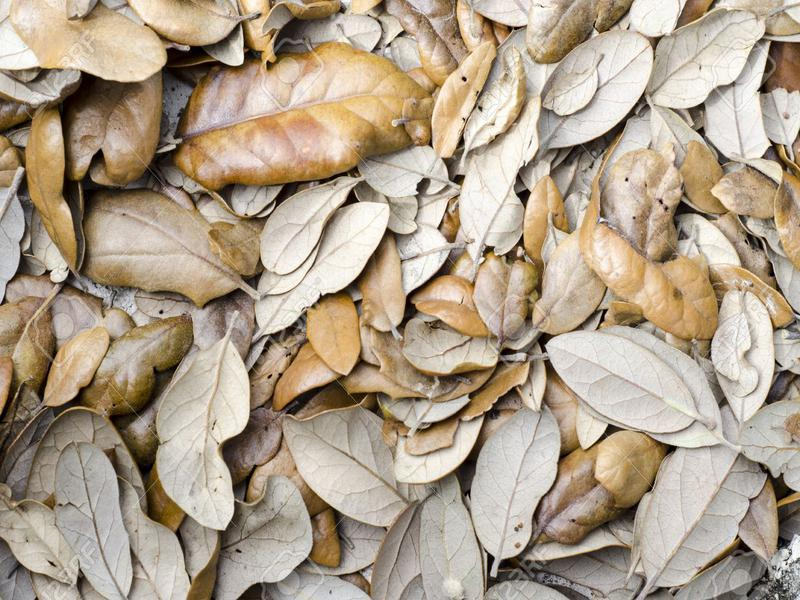leaf: (159, 45, 436, 194), (150, 307, 255, 536), (537, 322, 718, 453), (633, 438, 769, 600), (83, 187, 262, 307), (275, 403, 424, 526), (532, 28, 658, 169), (470, 402, 564, 586), (45, 438, 144, 600), (645, 5, 775, 118), (255, 173, 374, 278), (18, 102, 85, 276), (415, 469, 490, 600), (39, 320, 115, 413)
